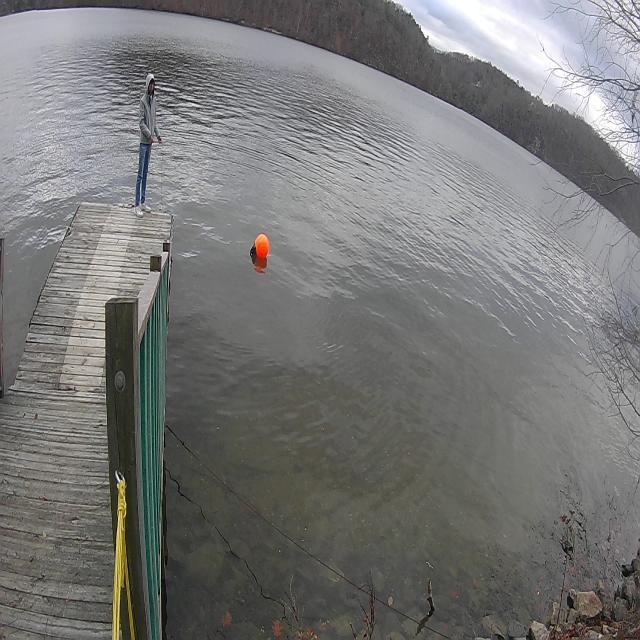Buoy: (250, 228, 272, 270)
